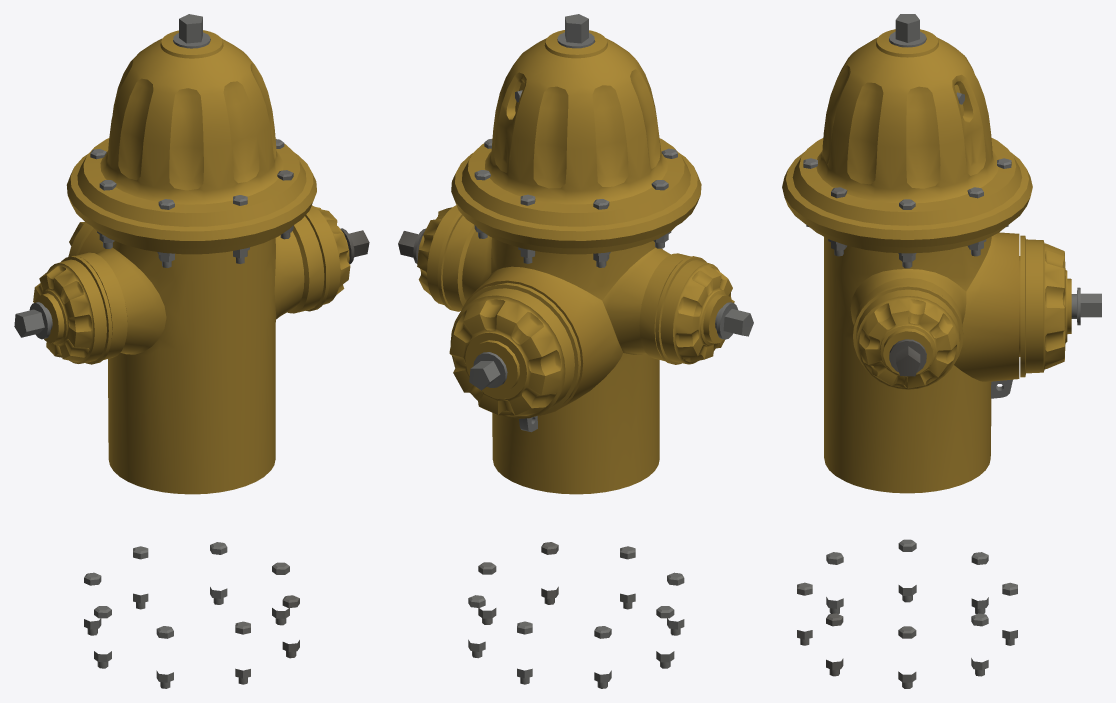
Rendered from hydrant.glb.
3 renders of one model, left to right at view 1: azimuth 30°, elevation 25°; view 2: azimuth 150°, elevation 25°; view 3: azimuth 270°, elevation 25°, orthographic.
Visible parts, largest first — view 1: cap_low_TT_checker_2048x2048_UV_GRID_0, bolts_low_TT_checker_2048x2048_UV_GRID_0; view 2: cap_low_TT_checker_2048x2048_UV_GRID_0, bolts_low_TT_checker_2048x2048_UV_GRID_0; view 3: cap_low_TT_checker_2048x2048_UV_GRID_0, bolts_low_TT_checker_2048x2048_UV_GRID_0.
Boxes of the visible parts, bbox=[...] form: cap_low_TT_checker_2048x2048_UV_GRID_0: bbox=[33, 30, 350, 494]; bolts_low_TT_checker_2048x2048_UV_GRID_0: bbox=[14, 14, 369, 688]; cap_low_TT_checker_2048x2048_UV_GRID_0: bbox=[417, 30, 734, 494]; bolts_low_TT_checker_2048x2048_UV_GRID_0: bbox=[398, 14, 753, 688]; cap_low_TT_checker_2048x2048_UV_GRID_0: bbox=[782, 29, 1071, 493]; bolts_low_TT_checker_2048x2048_UV_GRID_0: bbox=[797, 14, 1101, 688].
Bounding box in the file's own units: 96.77 × 168 × 78.1.
